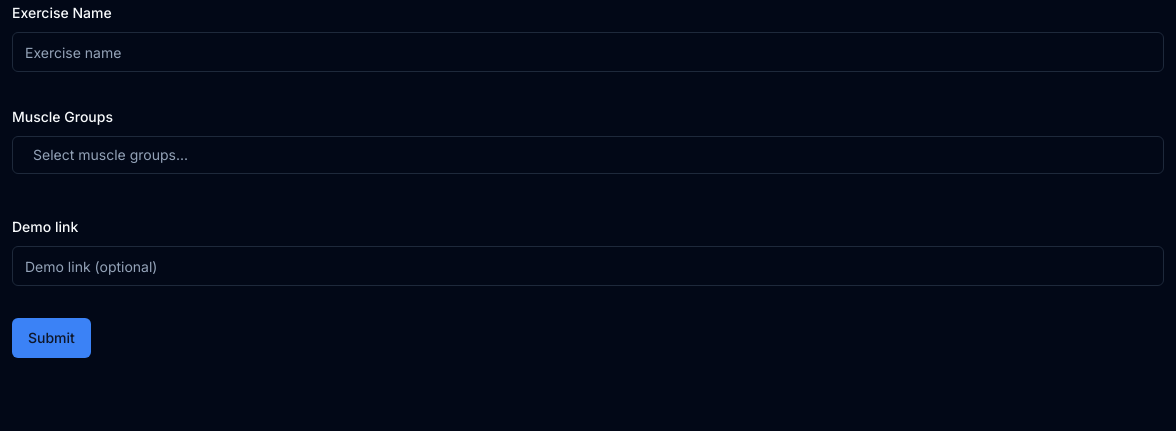
Scenario: Exercise Form › shows errors when trying to sumbit without required fields
Click the button "Submit". click: (51, 338)
box: [12,318,91,358]
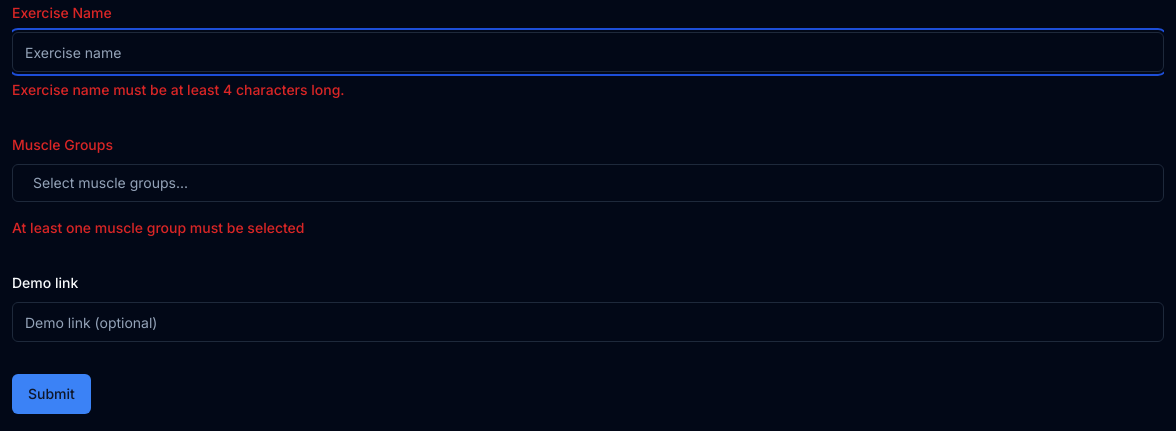
Expected: the text "Exercise name must be at least 4 characters long." is shown, [12,81,345,98]
Expected: the text "At least one muscle group must be selected" is shown, [12,219,304,236]
